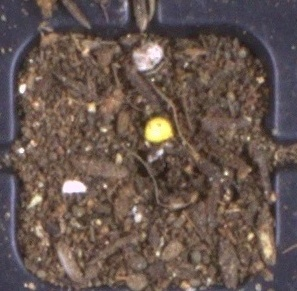chilli seed: (142, 116, 174, 143)
